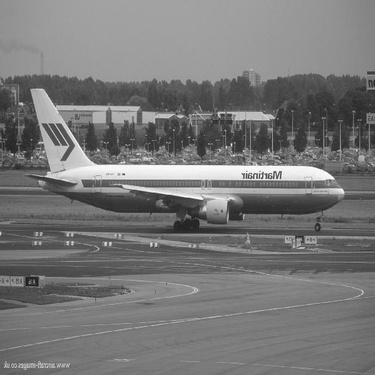airplane: (8, 70, 354, 244)
